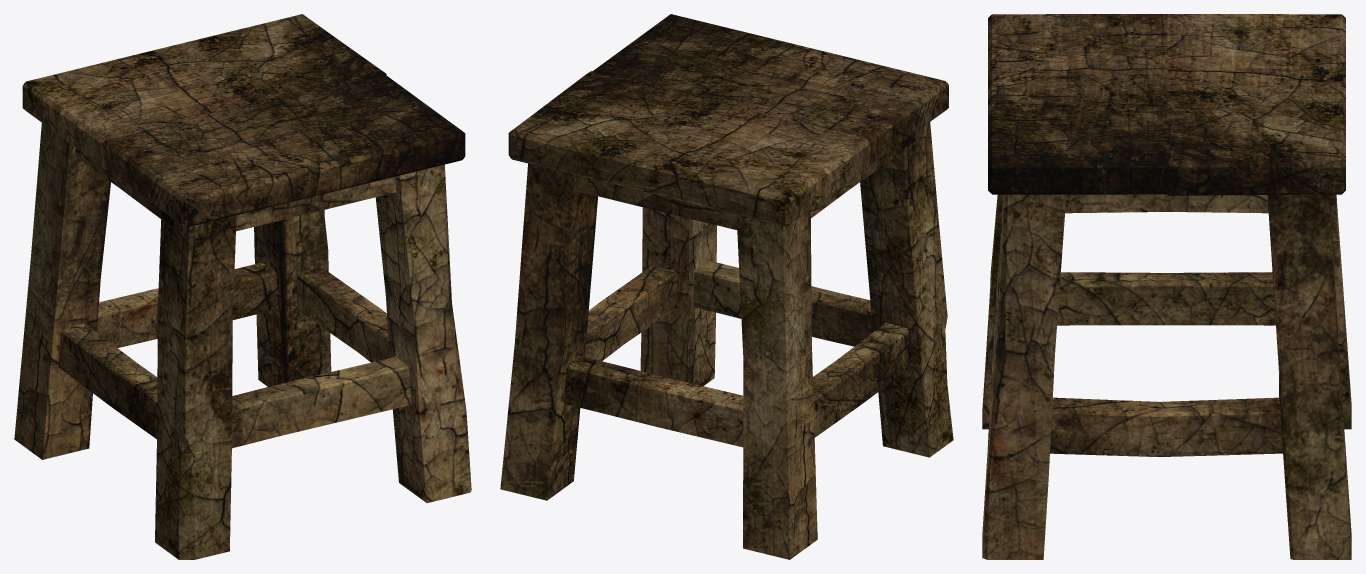
File: garage_stool_02.FBX
3 views of the same model, side by side, from view 1: azimuth 30°, elevation 25°; view 2: azimuth 150°, elevation 25°; view 3: azimuth 270°, elevation 25° (orthographic). The views are drawn at different scales.
Parts seen in each view (by area): view 1: garage_stool_02; view 2: garage_stool_02; view 3: garage_stool_02.
Boxes of the visible parts, x1,y1,x2,y2 form: garage_stool_02: (14,14,471,559); garage_stool_02: (500,14,953,559); garage_stool_02: (982,14,1351,559).
Size of the model in its own units: 0.359 by 0.425 by 0.3599.
